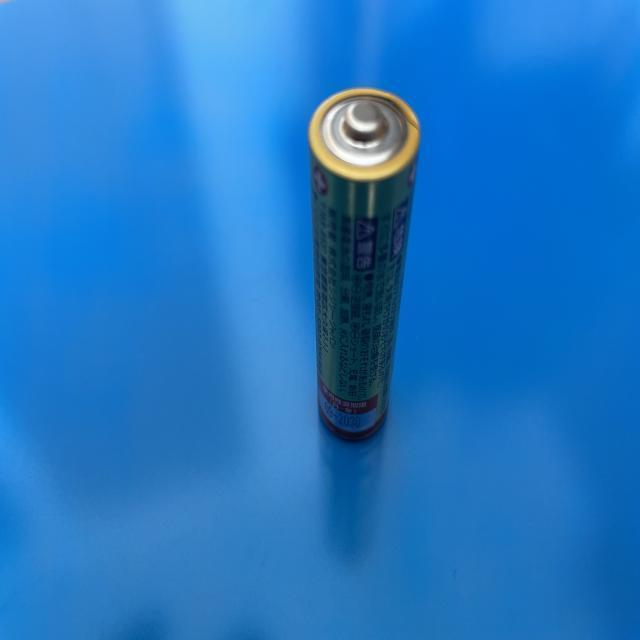AAA: (304, 86, 424, 444)
